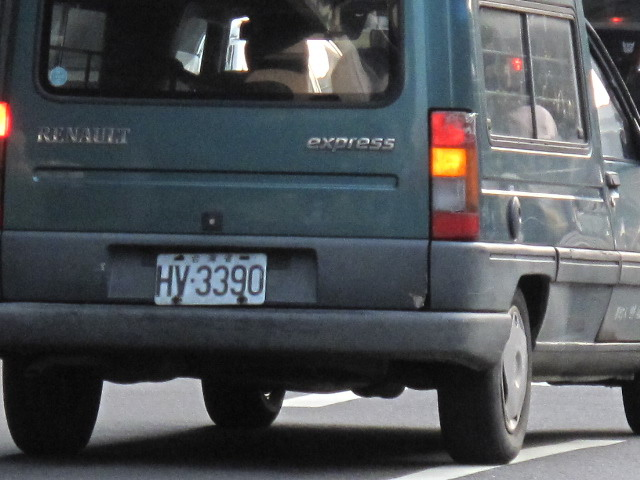plate: (151, 249, 272, 308)
